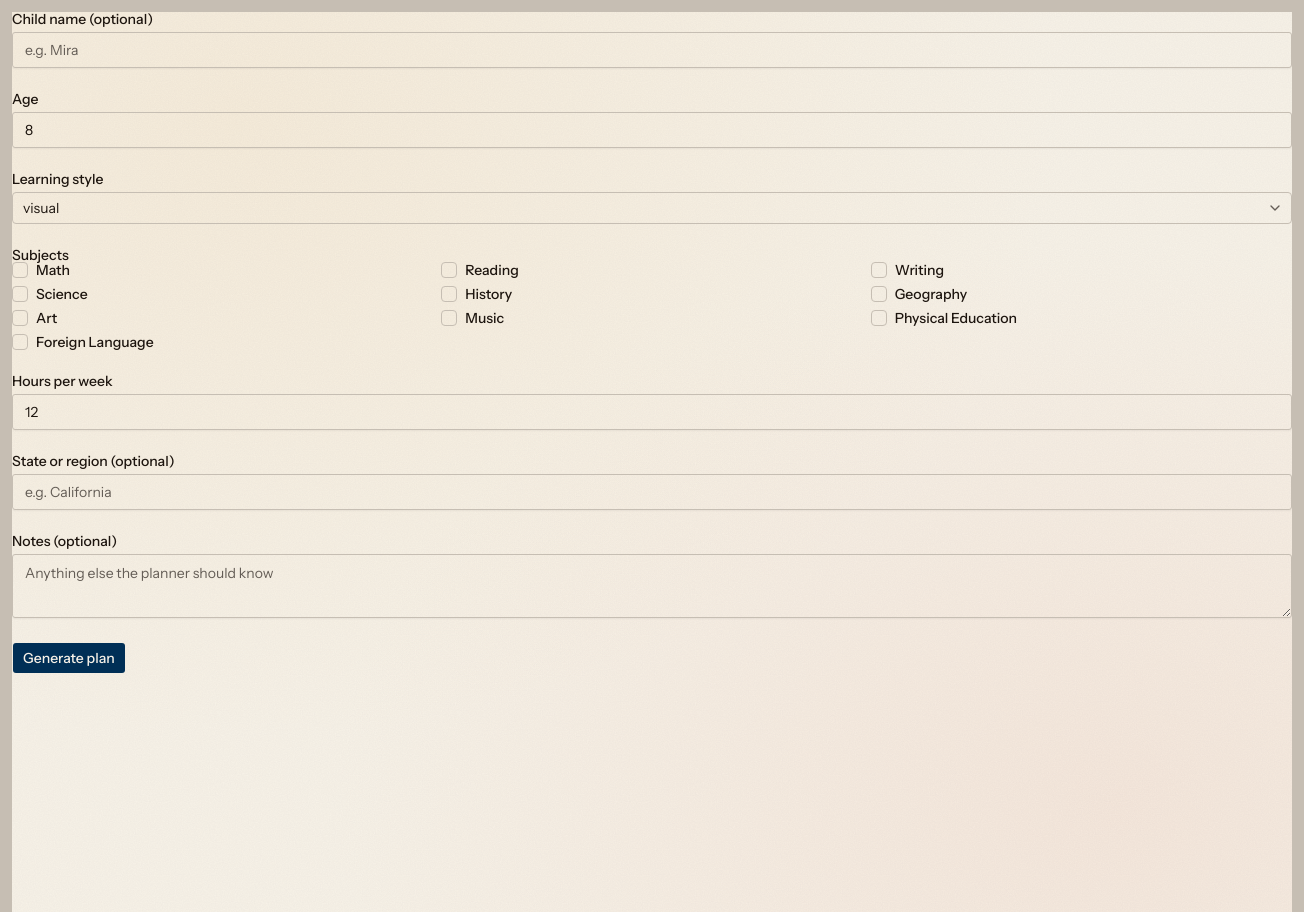
Test: ClassMapForm — validation blocks submit › all subjects unchecked → blocks submit
Click the button with test id "classmap-form-submit": (69, 658) [12,642,126,674]
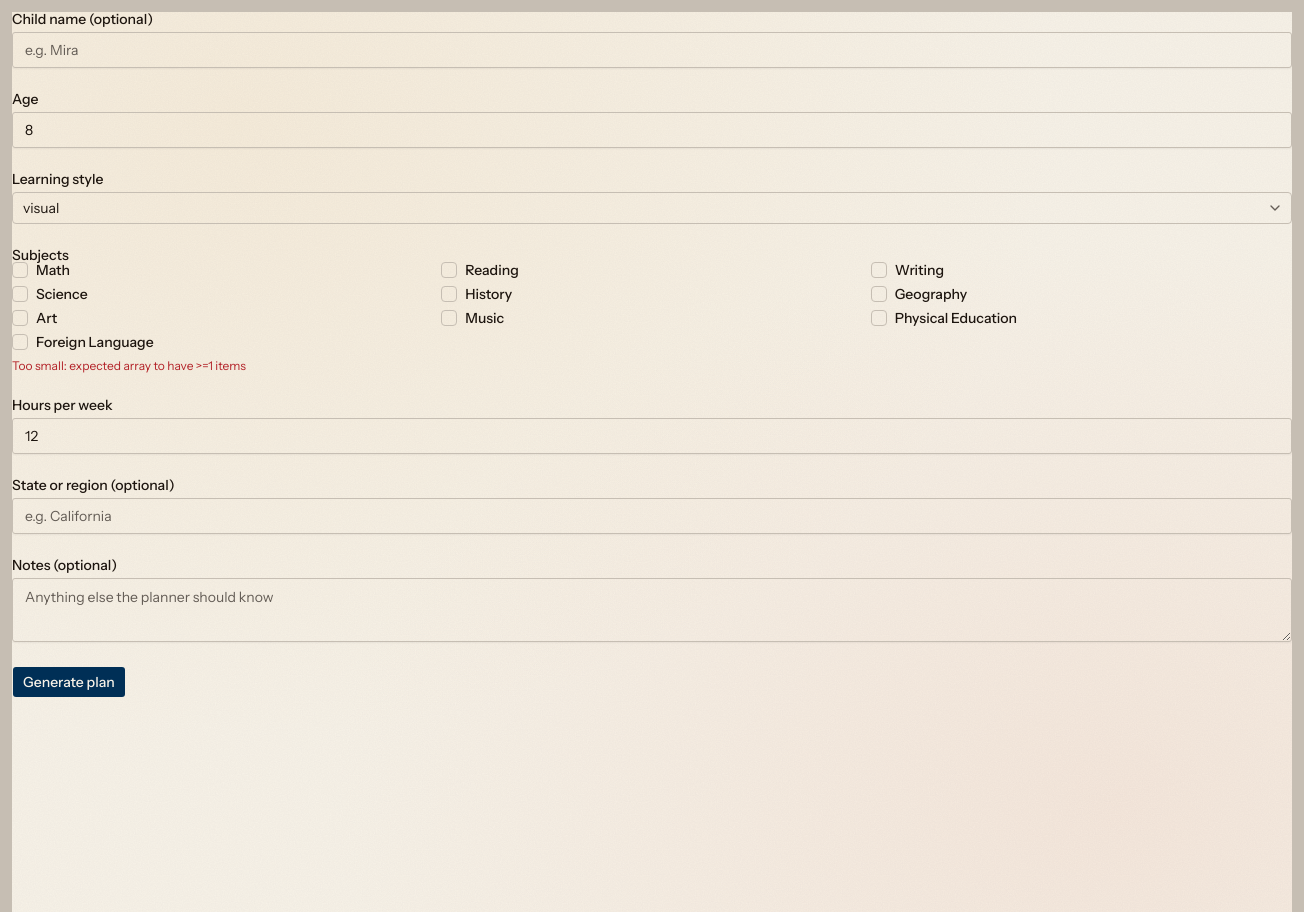
Expected: the message "Too small: expected array to have >=1 items" is shown, [12,358,246,373]
